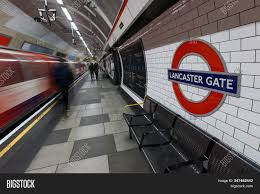London Underground: (167, 39, 238, 117)
